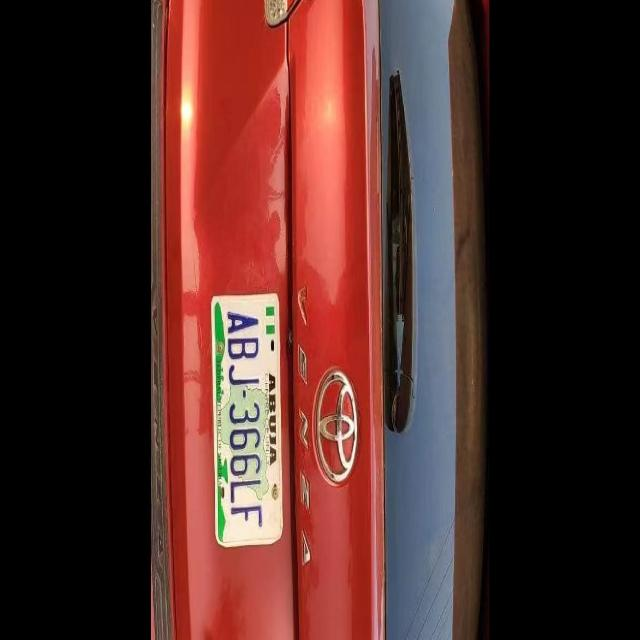Nigerian License Plate - vdataset benjamin-daria: (214, 295, 280, 543)
